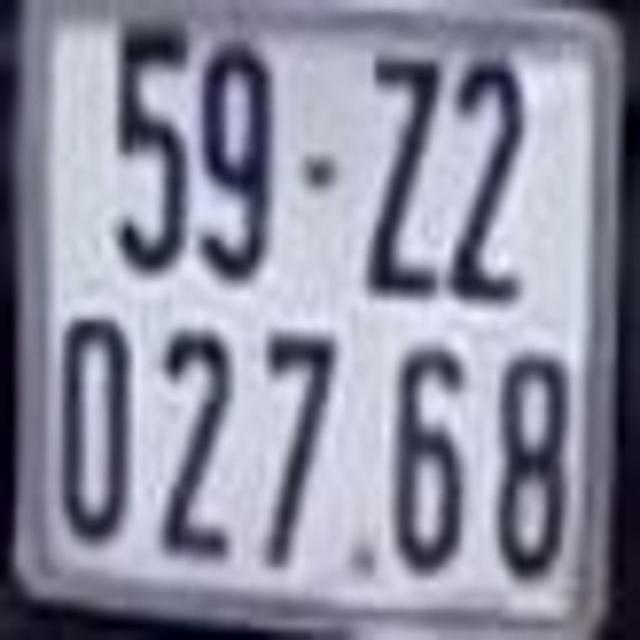0: (60, 314, 128, 544)
2: (454, 62, 520, 300), (163, 326, 224, 556)
5: (117, 18, 190, 265)
6: (396, 344, 468, 572)
7: (264, 327, 338, 560)
8: (498, 352, 566, 577)
9: (201, 43, 267, 284)
Z: (368, 52, 437, 295)
